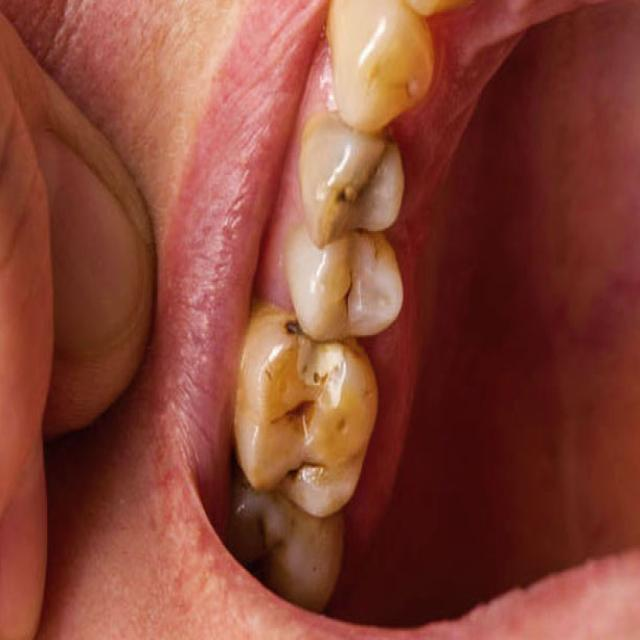caries: (242, 512, 294, 581), (293, 336, 348, 399), (264, 383, 323, 440), (324, 162, 372, 228), (272, 443, 328, 494), (329, 256, 367, 320), (269, 312, 306, 361)
